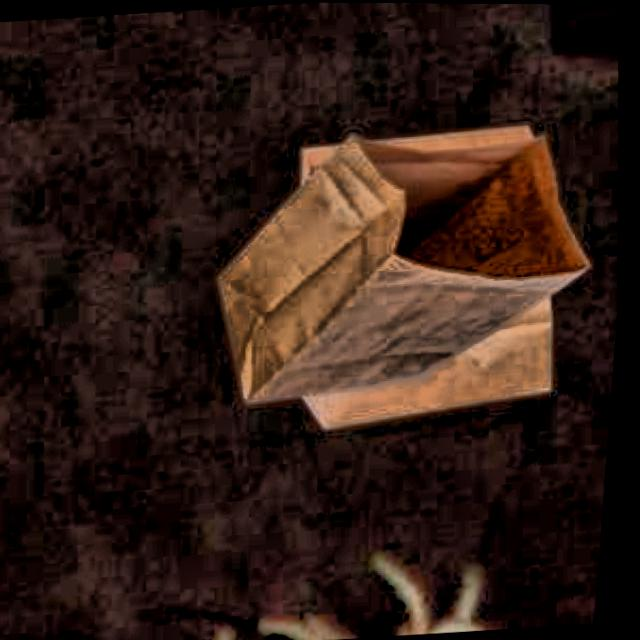Paper-bag: (214, 98, 627, 462), (182, 95, 606, 427)
